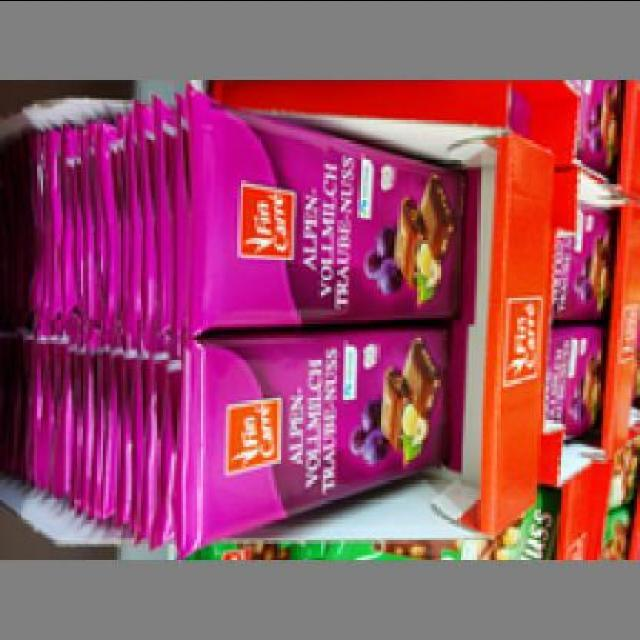Chocolate bar: (169, 323, 465, 551), (177, 126, 474, 334)
